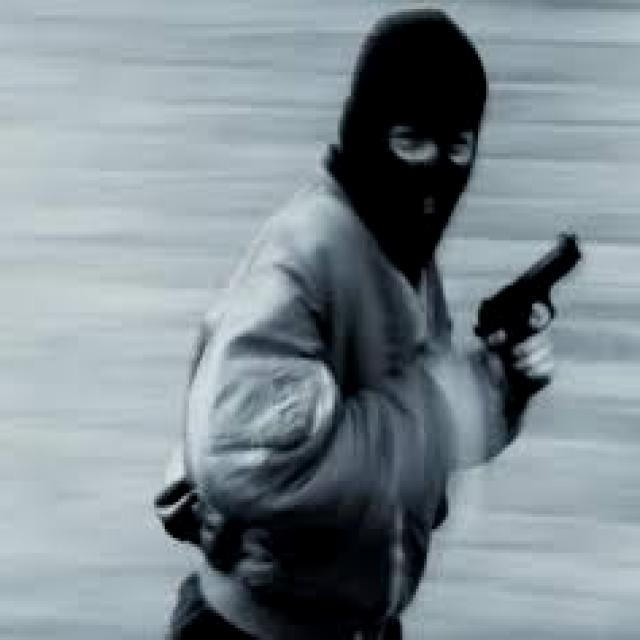pistol: (478, 222, 586, 403)
